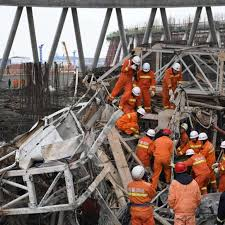helmet: (133, 166, 144, 180), (175, 161, 186, 172), (161, 127, 172, 135), (199, 132, 207, 142), (185, 148, 196, 155), (218, 139, 225, 150), (181, 120, 188, 130), (190, 130, 197, 140), (172, 62, 180, 70), (146, 128, 154, 136), (133, 87, 140, 95), (143, 63, 150, 71), (138, 107, 144, 115), (134, 55, 139, 62)
